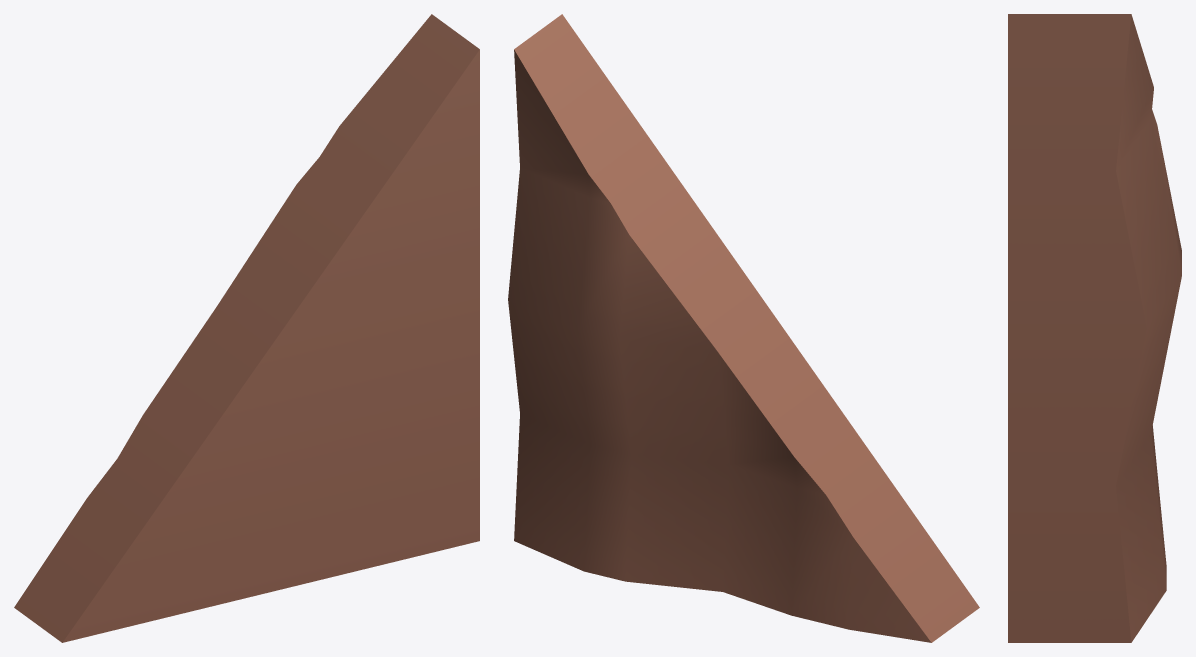
The model's file is template-wall-stairs.glb.
3 renders of one model, left to right at view 1: azimuth 30°, elevation 25°; view 2: azimuth 150°, elevation 25°; view 3: azimuth 270°, elevation 25°, orthographic. The views are drawn at different scales.
Visible parts, largest first — view 1: template-wall-stairs; view 2: template-wall-stairs; view 3: template-wall-stairs.
Boxes of the visible parts, x1,y1,x2,y2 form: template-wall-stairs: (14, 14, 479, 642); template-wall-stairs: (508, 14, 979, 642); template-wall-stairs: (1008, 14, 1181, 642).
Size of the model in its own units: 4 by 4.5 by 1.13.
Materials: 1 (1 with a texture image).
